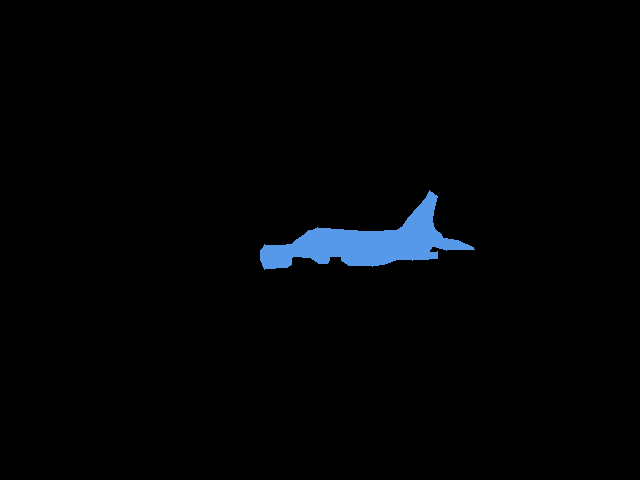Airplane: (260, 190, 474, 270)
